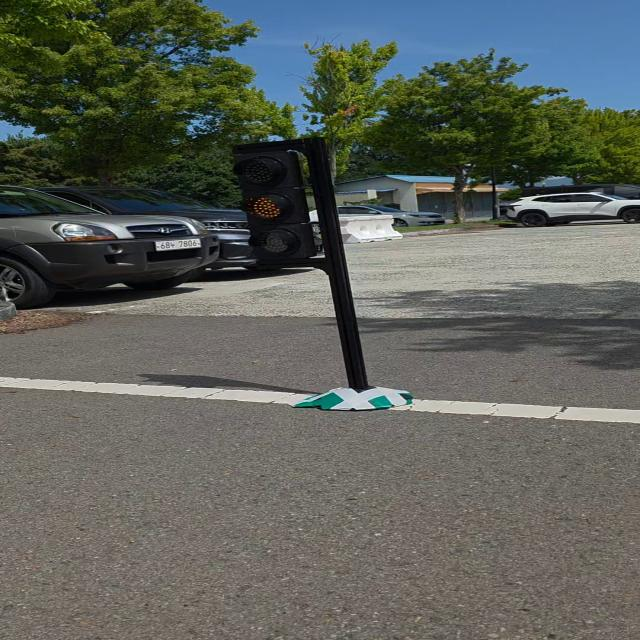yellow: (219, 147, 320, 259)
